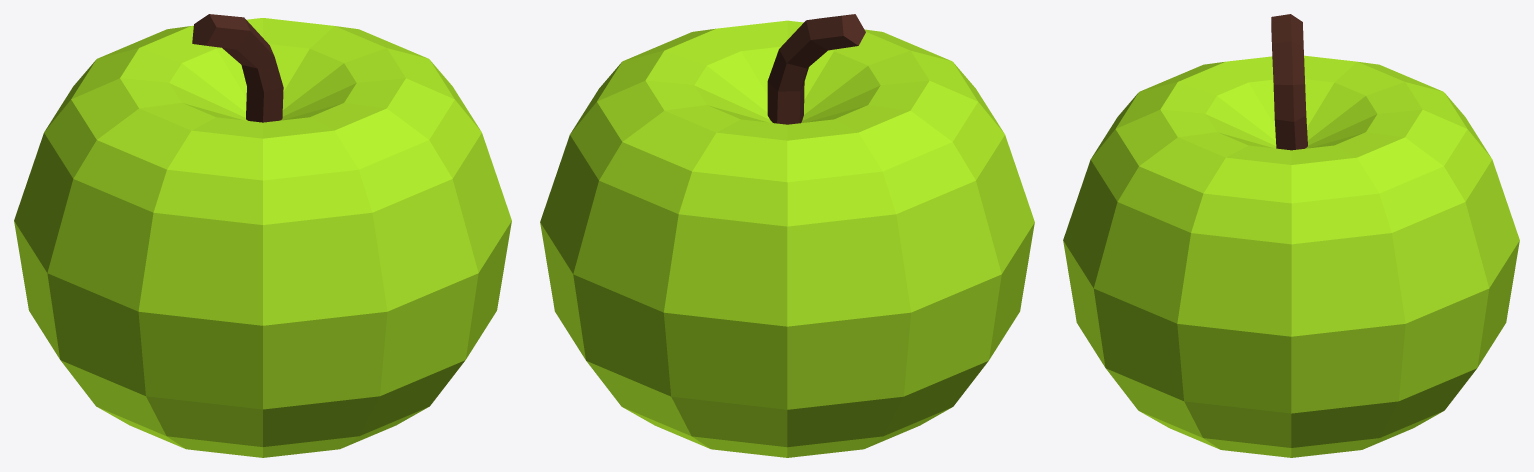
Rendered from apple_green.glb.
3 renders of one model, left to right at view 1: azimuth 30°, elevation 25°; view 2: azimuth 150°, elevation 25°; view 3: azimuth 270°, elevation 25°, orthographic. The views are drawn at different scales.
Visible parts, largest first — view 1: apple_green; view 2: apple_green; view 3: apple_green.
Boxes of the visible parts, <box> form: apple_green: <box>14,14,511,457</box>; apple_green: <box>540,14,1034,457</box>; apple_green: <box>1063,14,1519,457</box>.
Bounding box in the file's own units: 1.18 × 1.09 × 1.18.
1 material, 1 textured.
